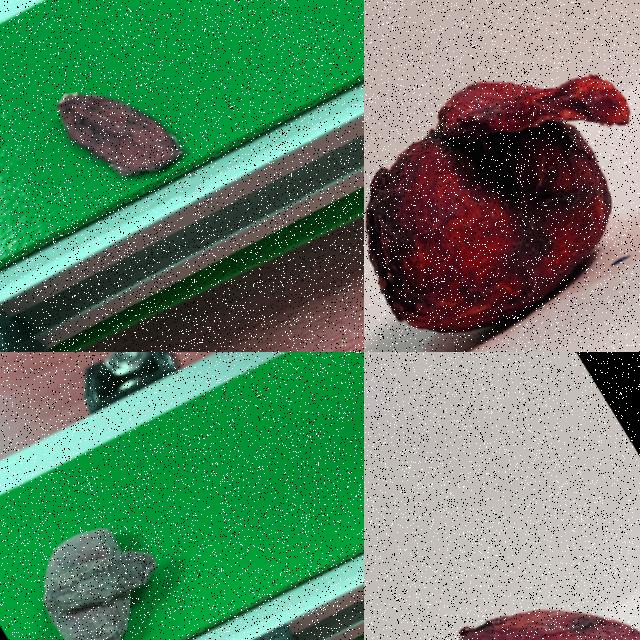Agglomerated_cocoabeans: (364, 0, 639, 351), (0, 452, 260, 639), (364, 498, 639, 639)
Flat_cocoabeans: (0, 5, 271, 247)
